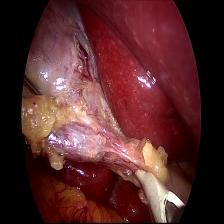Grasper: (22, 76, 44, 105)
Hook: (131, 164, 185, 223)
